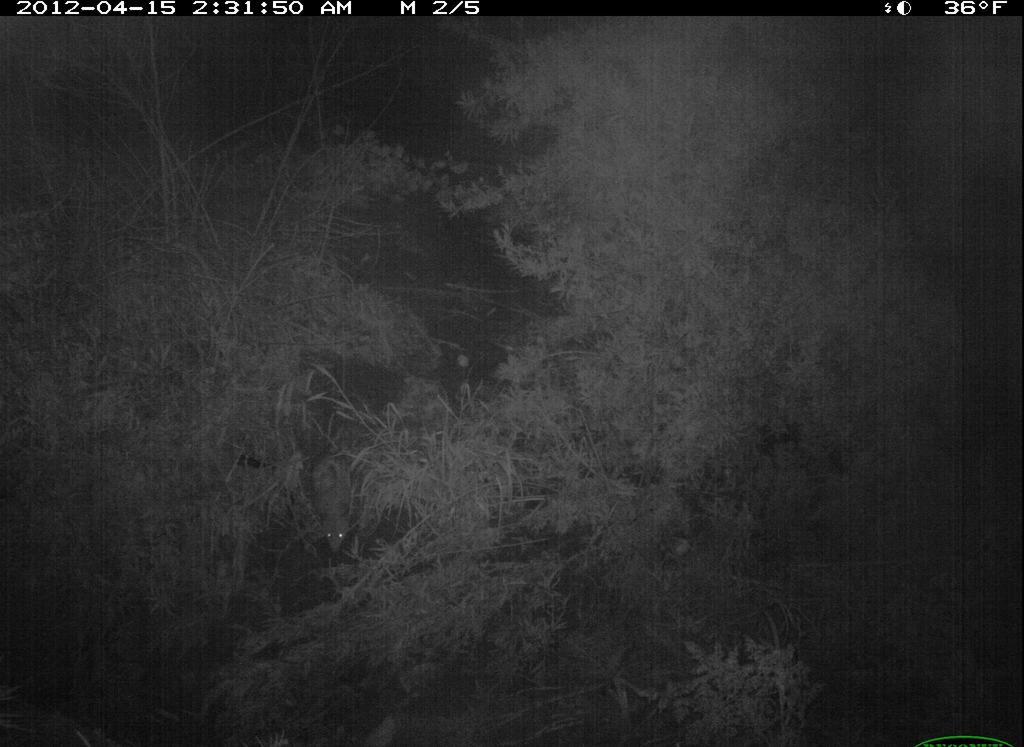opossum: (300, 432, 374, 553)
